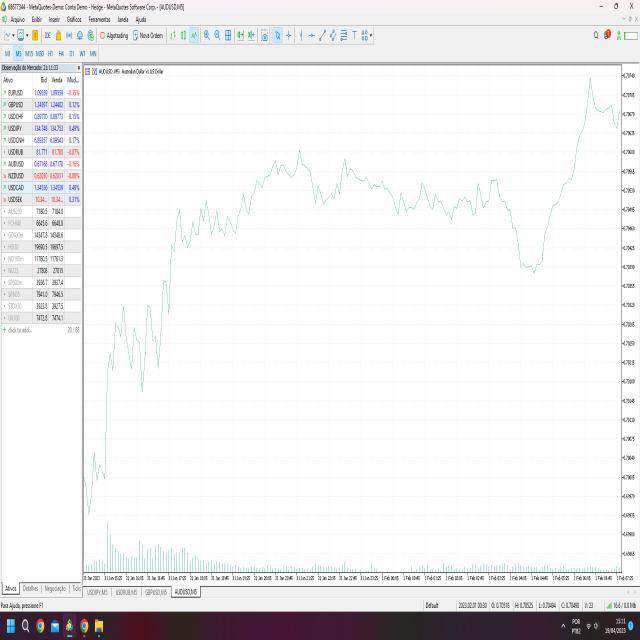bandeira_alta: (100, 273, 163, 487)
